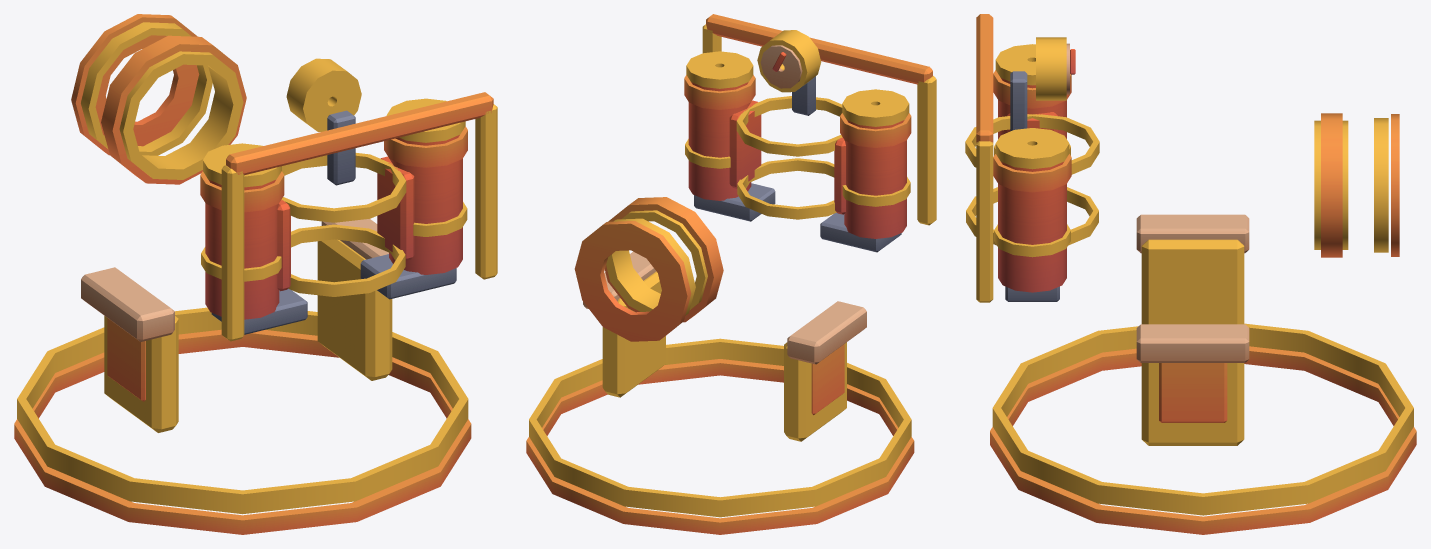
File: flamethrower_upgrades.glb
3 renders of one model, left to right at view 1: azimuth 30°, elevation 25°; view 2: azimuth 150°, elevation 25°; view 3: azimuth 270°, elevation 25°, orthographic. The views are drawn at different scales.
Parts seen in each view (by area): view 1: upgrade_l8_base, upgrade_l7_yaw, upgrade_l2_base, upgrade_l6_yaw, upgrade_l4_base, upgrade_l5_pitch, upgrade_l3_yaw, upgrade_l8_pitch, upgrade_l2_pitch, upgrade_l2_yaw, upgrade_l8_yaw; view 2: upgrade_l6_yaw, upgrade_l8_base, upgrade_l2_base, upgrade_l7_yaw, upgrade_l8_pitch, upgrade_l4_base, upgrade_l5_pitch, upgrade_l3_yaw, upgrade_l8_yaw, upgrade_l2_yaw, upgrade_l2_pitch; view 3: upgrade_l8_base, upgrade_l2_base, upgrade_l4_base, upgrade_l6_yaw, upgrade_l7_yaw, upgrade_l5_pitch, upgrade_l8_yaw, upgrade_l3_yaw, upgrade_l2_pitch, upgrade_l2_yaw, upgrade_l8_pitch.
Boxes of the visible parts, bbox=[...] form: upgrade_l8_base: bbox=[14, 219, 471, 534]; upgrade_l7_yaw: bbox=[221, 58, 497, 341]; upgrade_l2_base: bbox=[17, 307, 468, 514]; upgrade_l6_yaw: bbox=[201, 98, 467, 334]; upgrade_l4_base: bbox=[104, 239, 392, 432]; upgrade_l5_pitch: bbox=[101, 35, 246, 184]; upgrade_l3_yaw: bbox=[277, 153, 414, 291]; upgrade_l8_pitch: bbox=[71, 14, 199, 155]; upgrade_l2_pitch: bbox=[81, 22, 212, 155]; upgrade_l2_yaw: bbox=[288, 224, 405, 296]; upgrade_l8_yaw: bbox=[200, 126, 467, 212]; upgrade_l6_yaw: bbox=[685, 51, 910, 252]; upgrade_l8_base: bbox=[526, 251, 914, 534]; upgrade_l2_base: bbox=[529, 338, 911, 517]; upgrade_l7_yaw: bbox=[702, 14, 936, 225]; upgrade_l8_pitch: bbox=[574, 221, 691, 341]; upgrade_l4_base: bbox=[602, 271, 846, 441]; upgrade_l5_pitch: bbox=[605, 197, 723, 322]; upgrade_l3_yaw: bbox=[729, 96, 845, 214]; upgrade_l8_yaw: bbox=[684, 75, 911, 147]; upgrade_l2_yaw: bbox=[737, 158, 836, 219]; upgrade_l2_pitch: bbox=[613, 218, 695, 315]; upgrade_l8_base: bbox=[990, 214, 1416, 534]; upgrade_l2_base: bbox=[992, 323, 1413, 515]; upgrade_l4_base: bbox=[1141, 239, 1244, 445]; upgrade_l6_yaw: bbox=[994, 44, 1070, 301]; upgrade_l7_yaw: bbox=[976, 14, 1075, 302]; upgrade_l5_pitch: bbox=[1314, 113, 1348, 257]; upgrade_l8_yaw: bbox=[993, 70, 1071, 192]; upgrade_l3_yaw: bbox=[965, 112, 1099, 174]; upgrade_l2_pitch: bbox=[1374, 118, 1388, 252]; upgrade_l2_yaw: bbox=[966, 187, 1098, 245]; upgrade_l8_pitch: bbox=[1391, 114, 1399, 256].
Size of the model in its own units: 1.25 by 1.31 by 1.32.
1 material, 1 textured.
